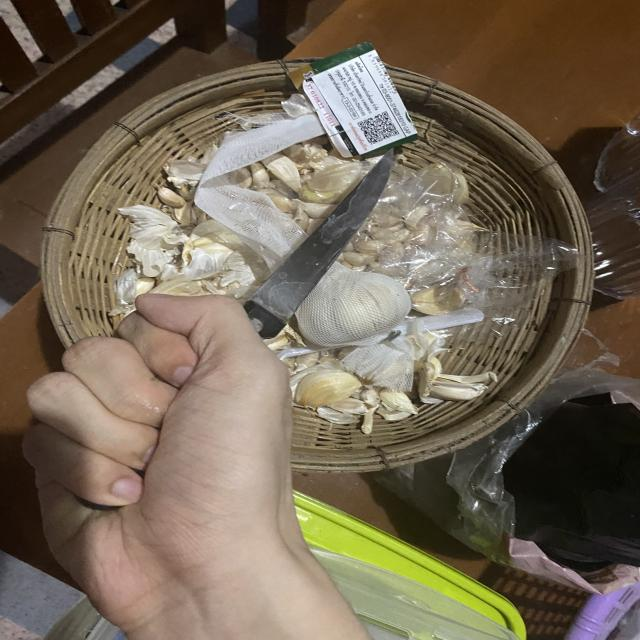faca: (59, 110, 430, 548)
